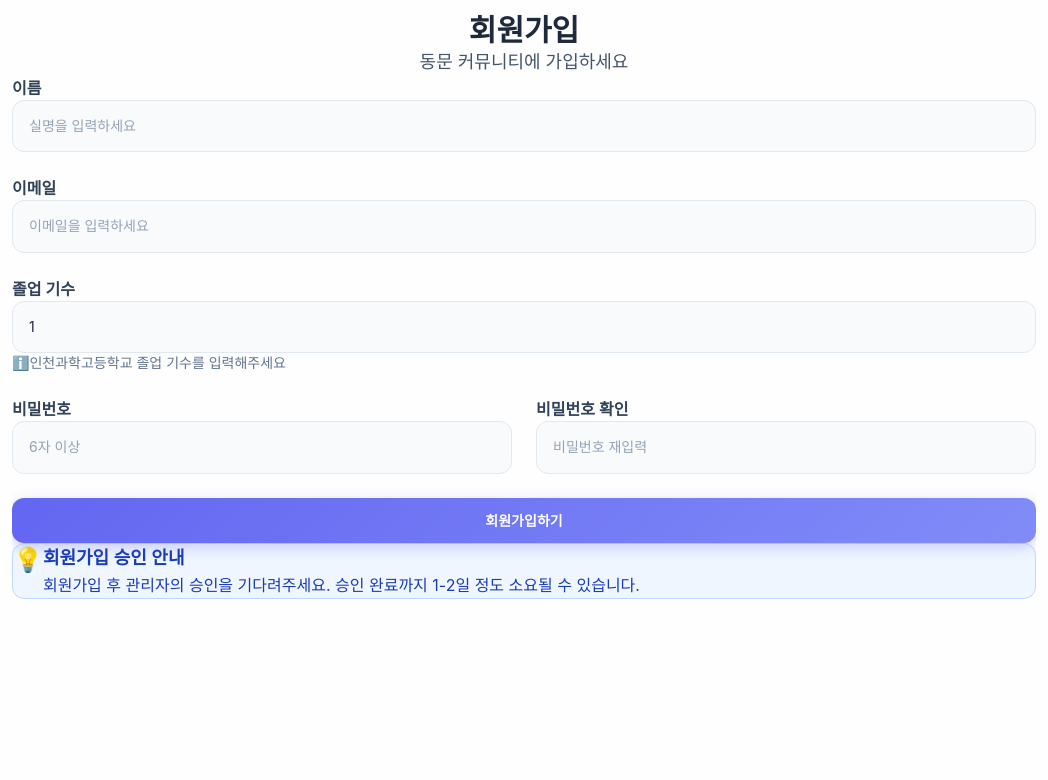
Test case: RegisterForm › should show error when passwords do not match
Type "홍길동" into the field labelled "이름" at (524, 126), box top-left (12, 100), bottom-right (1036, 152)
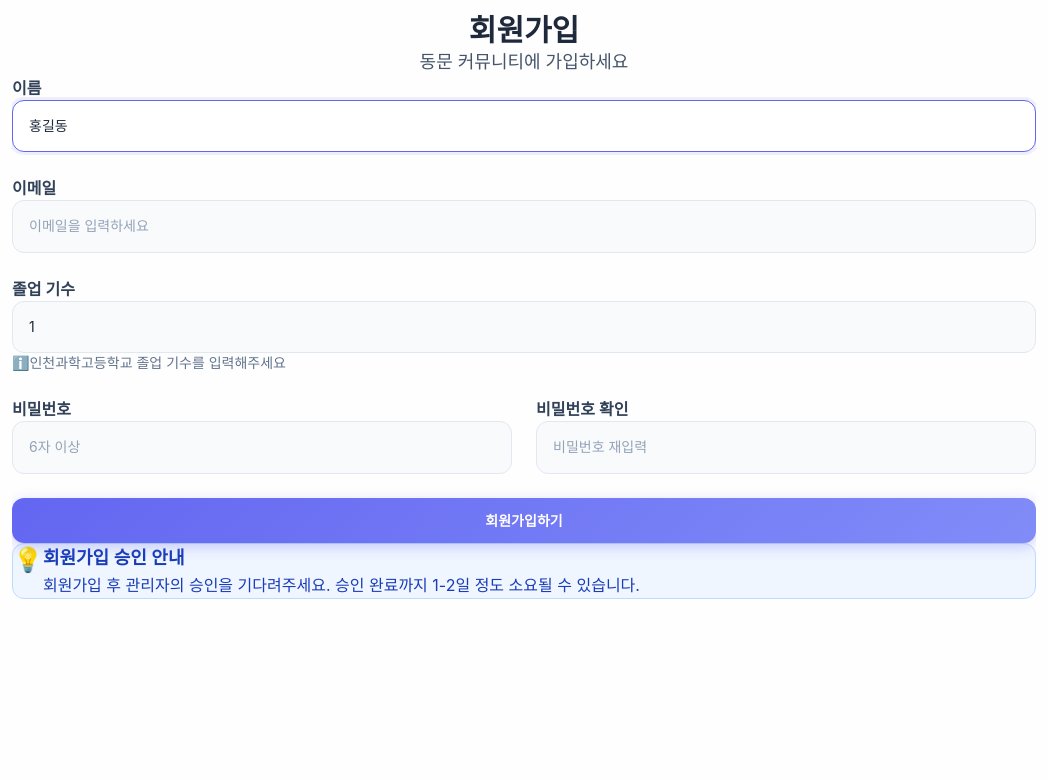
Type "test@example.com" into the field labelled "이메일" at (524, 227), box top-left (12, 200), bottom-right (1036, 253)
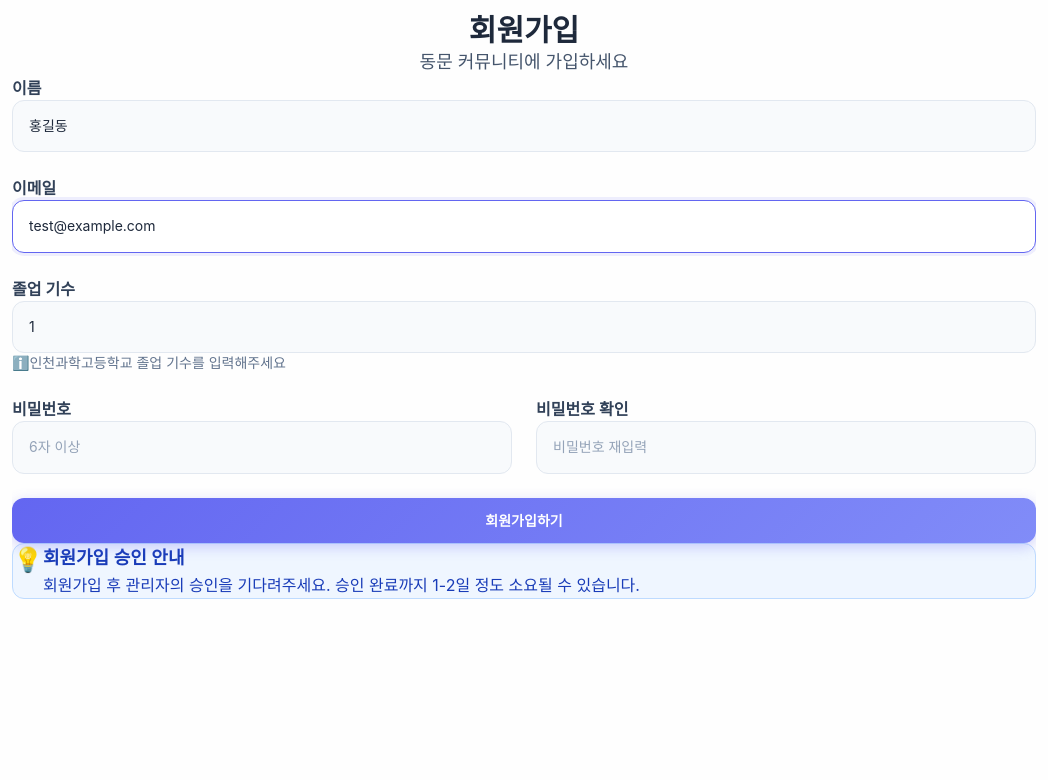
Replace the text in the number field labelled "졸업 기수" with "10" at (524, 327), box top-left (12, 301), bottom-right (1036, 353)
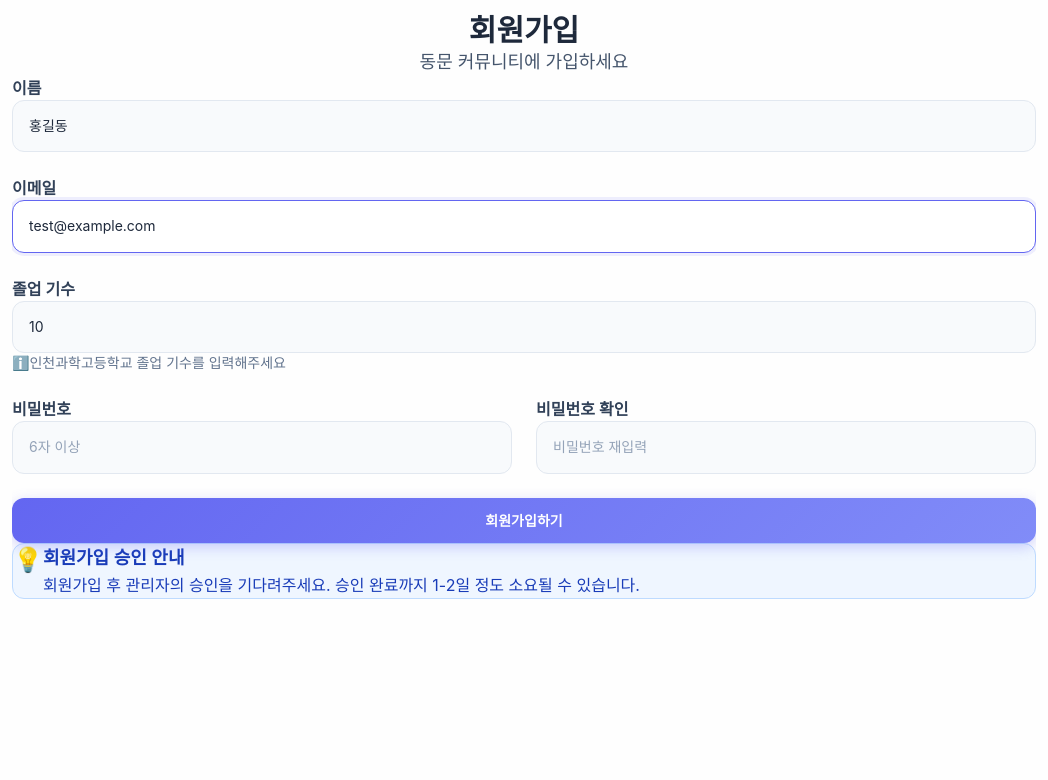
Type "password123" into the password field labelled "비밀번호" at (262, 447), box top-left (12, 421), bottom-right (512, 474)
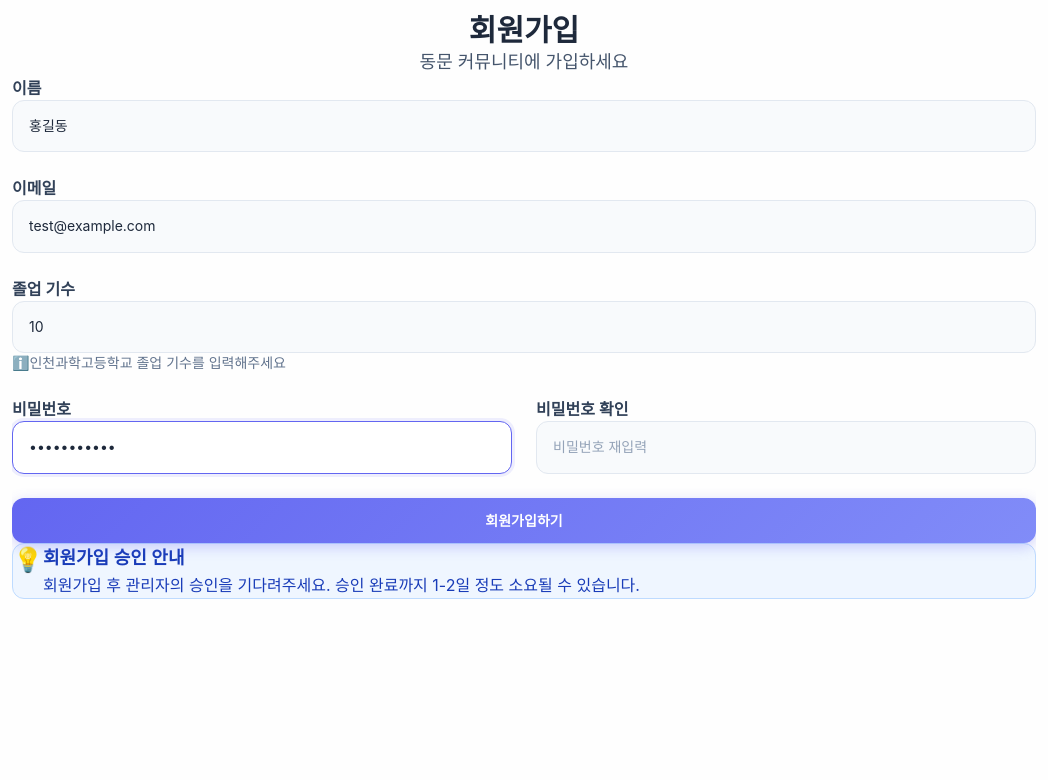
Type "different123" into the password field labelled "비밀번호 확인" at (786, 447), box top-left (536, 421), bottom-right (1036, 474)
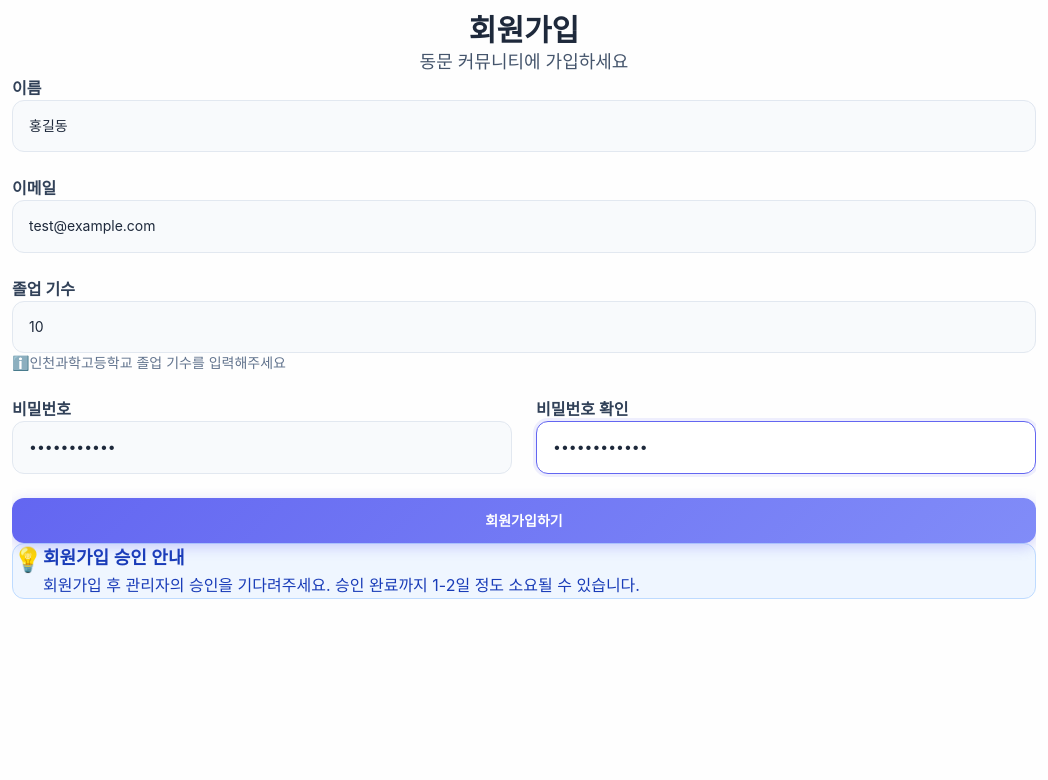
Click the button "회원가입하기" at (524, 520), box top-left (12, 498), bottom-right (1036, 543)
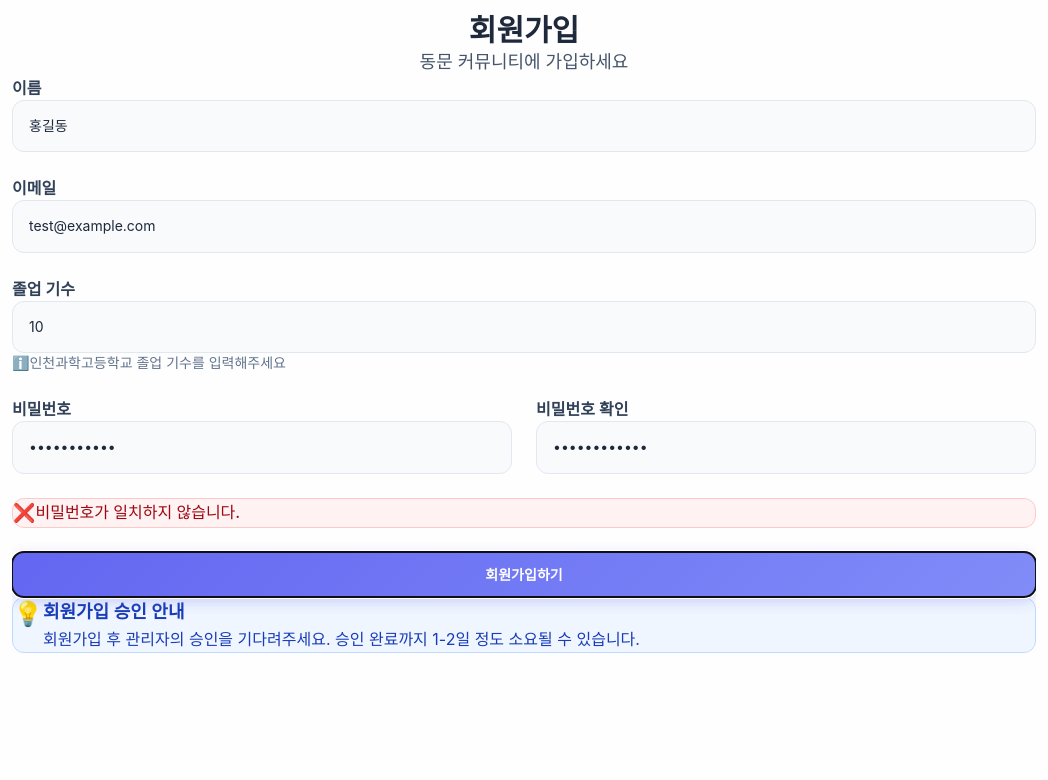
Expected: the text "비밀번호가 일치하지 않습니다." is shown, top-left (36, 502), bottom-right (240, 522)
